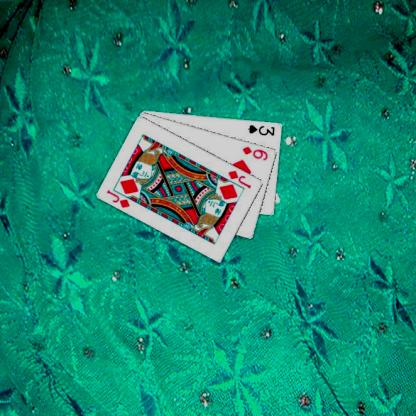3S: (246, 122, 276, 137)
6D: (240, 144, 270, 161)
JD: (104, 188, 132, 210), (225, 168, 252, 190)
